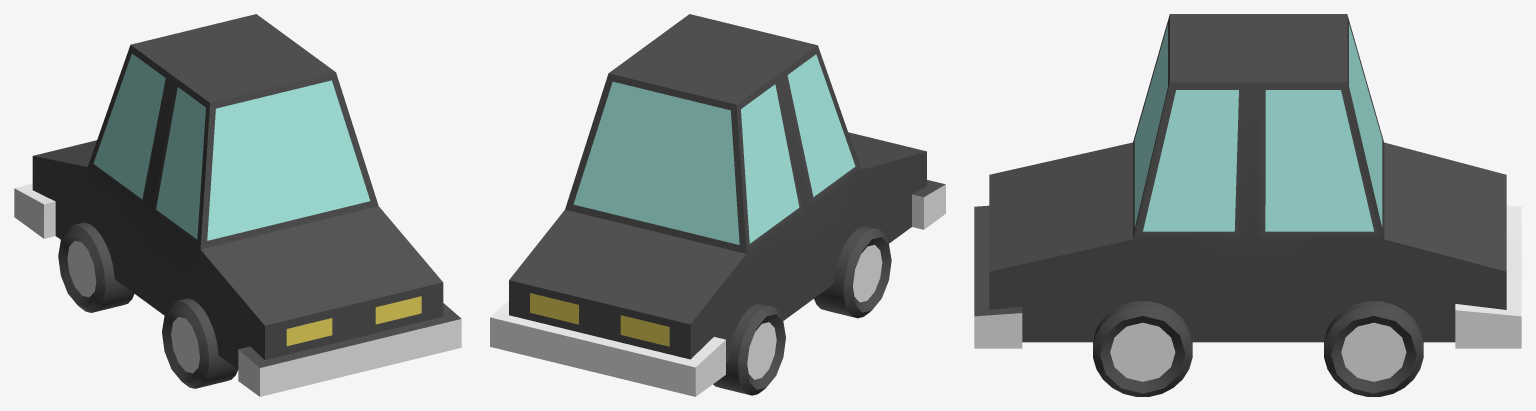
The model's file is basic car gray.fbx.
3 views of the same model, side by side, from view 1: azimuth 30°, elevation 25°; view 2: azimuth 150°, elevation 25°; view 3: azimuth 270°, elevation 25° (orthographic). The views are drawn at different scales.
Visible parts, largest first — view 1: body, pCylinder10, pCylinder9; view 2: body, pCylinder9, pCylinder10; view 3: body, pCylinder7, pCylinder8.
Part boxes in pixels (x1,y1,x2,y2): body: [14, 14, 461, 396]; pCylinder10: [58, 222, 134, 312]; pCylinder9: [162, 298, 237, 388]; body: [490, 14, 945, 396]; pCylinder9: [814, 226, 891, 318]; pCylinder10: [713, 303, 785, 395]; body: [974, 14, 1521, 348]; pCylinder7: [1093, 301, 1192, 396]; pCylinder8: [1324, 301, 1423, 396].
Bounding box in the file's own units: 40.85 × 49.54 × 83.34.
1 material, 1 textured.
